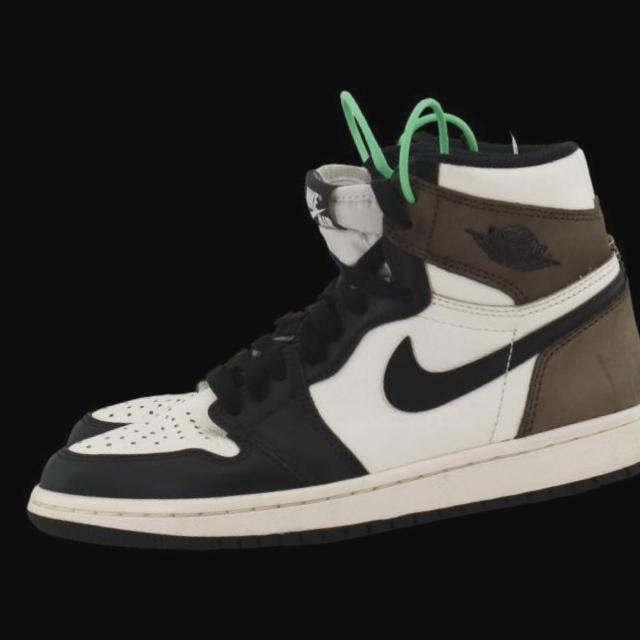nike_original_jordan: (0, 109, 640, 583), (6, 116, 568, 448)
